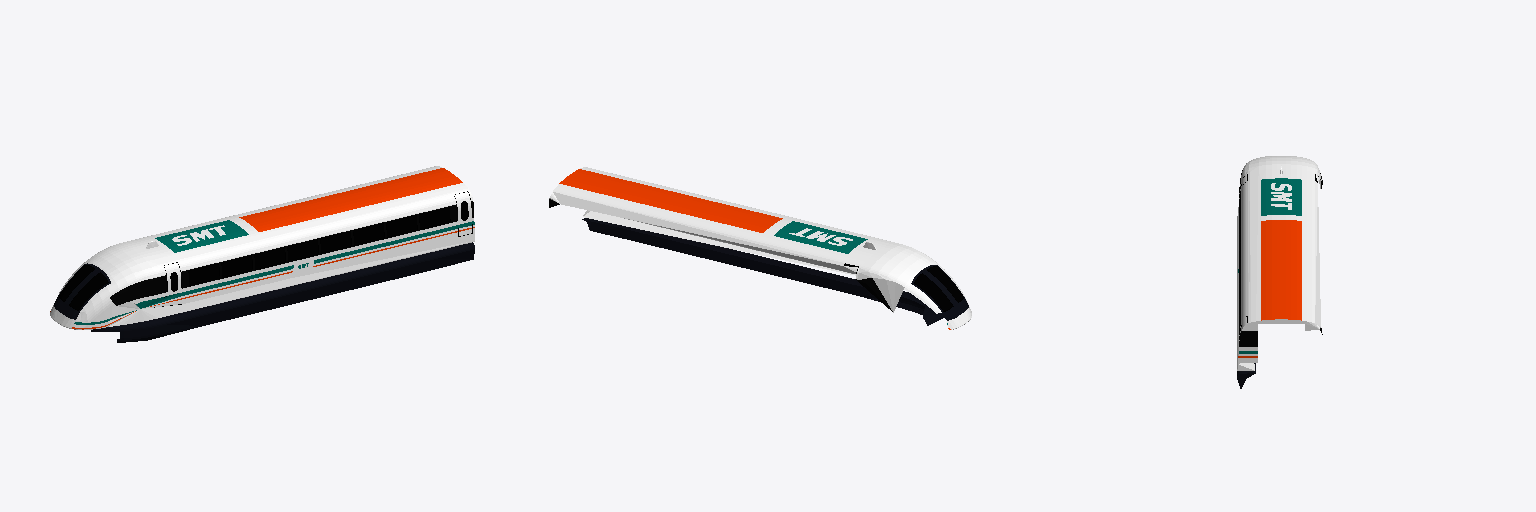
The model's file is train.obj.
The picture shows the model from 3 angles: view 1: azimuth 30°, elevation 25°; view 2: azimuth 150°, elevation 25°; view 3: azimuth 270°, elevation 25°; orthographic projection.
Visible parts, largest first — view 1: Group6; view 2: Group6; view 3: Group6.
Part boxes in pixels (x1,y1,x2,y2): Group6: (50, 166, 474, 342); Group6: (549, 167, 971, 329); Group6: (1237, 156, 1322, 388).
Size of the model in its own units: 8.75 by 1.65 by 1.64.